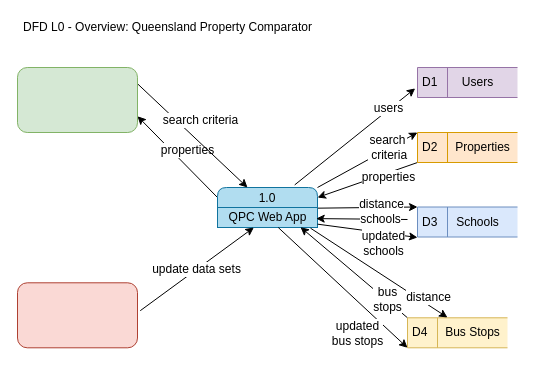
The diagram is 535 pixels wide and 373 high, and some of its shapes have lost their labels. The centre of each missing label's shape, as x and y in pixels:
"User : Admin" goes at point 77,315.
"User : Real estate practitioner member" goes at point 77,99.
